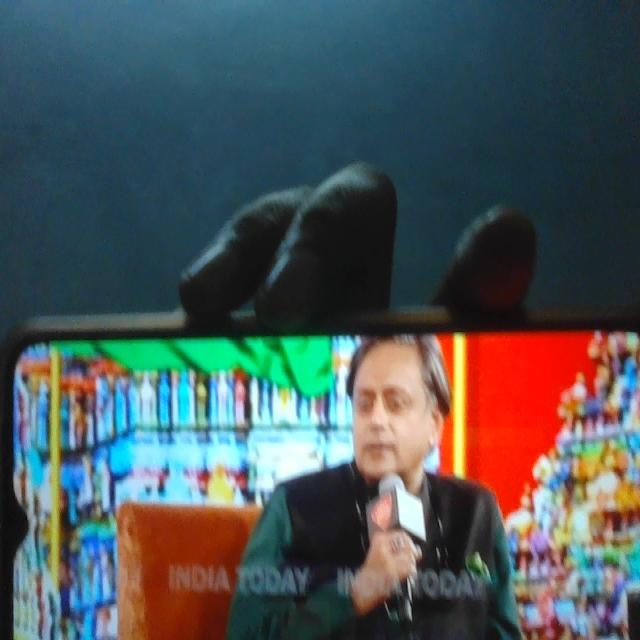fake: (340, 300, 445, 499)
